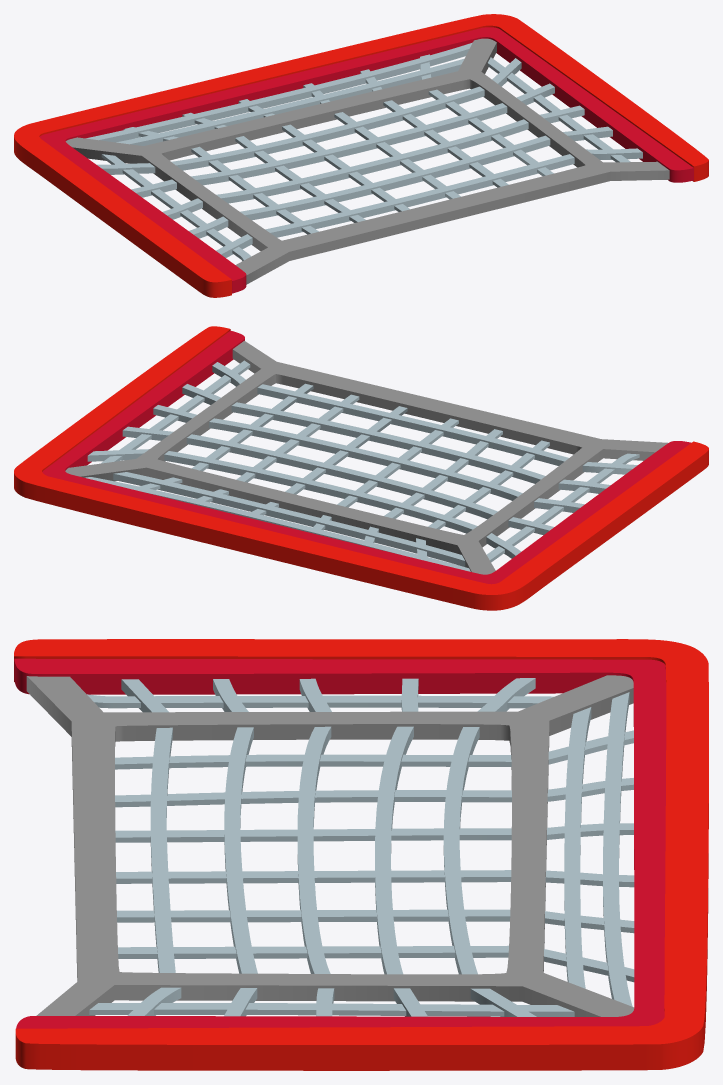
File: emoji_u1f945.glb
3 renders of one model, top to bottom at view 1: azimuth 30°, elevation 25°; view 2: azimuth 150°, elevation 25°; view 3: azimuth 270°, elevation 25°, orthographic. The views are drawn at different scales.
Visible parts, largest first — view 1: emoji_u1f945; view 2: emoji_u1f945; view 3: emoji_u1f945.
Part boxes in pixels (bbox=[...]): emoji_u1f945: bbox=[14, 14, 708, 297]; emoji_u1f945: bbox=[14, 326, 708, 610]; emoji_u1f945: bbox=[14, 639, 708, 1070].
Bounding box in the file's own units: 0.0338 × 0.001 × 0.0244.
